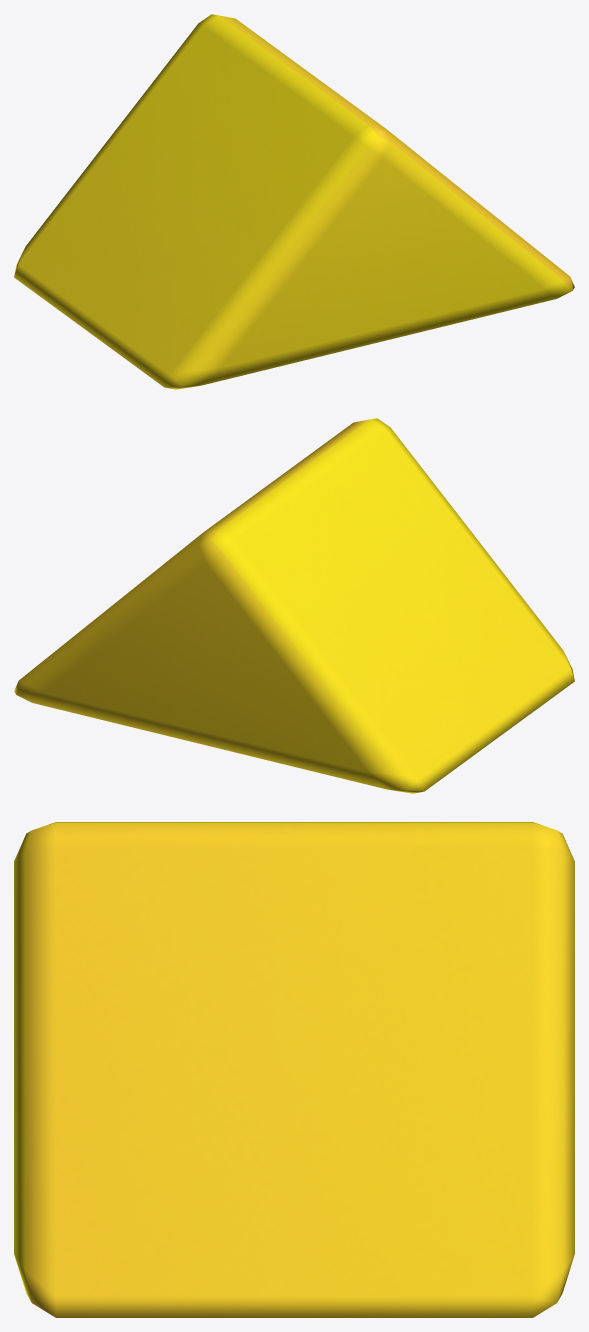
Rendered from BlockPitchedRoofYellow.fbx.
The picture shows the model from 3 angles, top to bottom: view 1: azimuth 30°, elevation 25°; view 2: azimuth 150°, elevation 25°; view 3: azimuth 270°, elevation 25°; orthographic projection. The views are drawn at different scales.
Parts seen in each view (by area): view 1: Cube.004; view 2: Cube.004; view 3: Cube.004.
Boxes of the visible parts, box(x1,y1,x2,y2) form: Cube.004: box(14, 14, 574, 389); Cube.004: box(14, 418, 574, 793); Cube.004: box(14, 822, 574, 1317).
Size of the model in its own units: 268 by 135 by 200.
